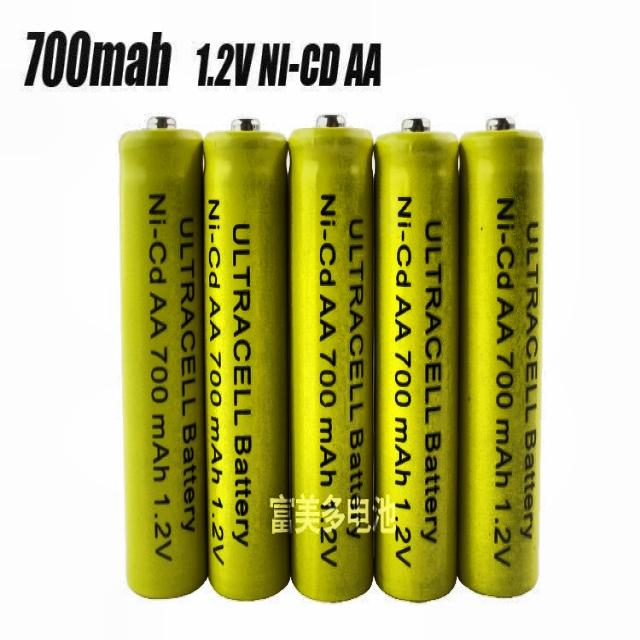Non-Valuable Waste - Batteries: (119, 118, 208, 598), (204, 120, 290, 599), (375, 120, 459, 601), (289, 118, 372, 601), (459, 120, 542, 597)
